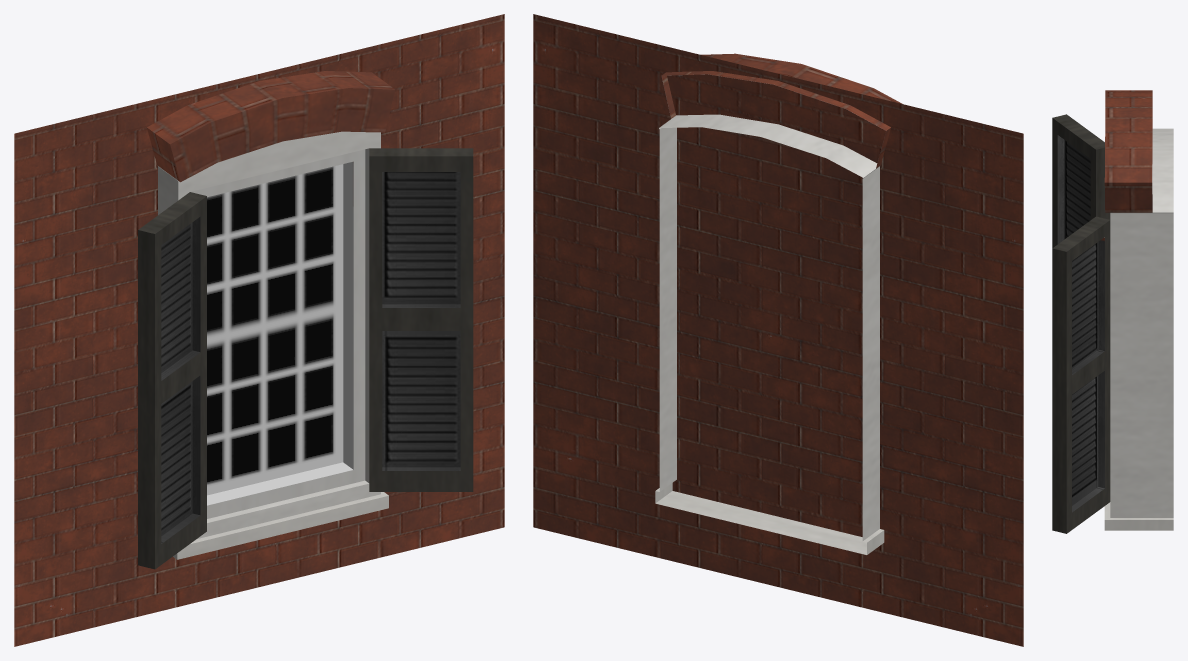
Rendered from Brick_WINDOW_OPEN_THREE.fbx.
The picture shows the model from 3 angles, left to right: view 1: azimuth 30°, elevation 25°; view 2: azimuth 150°, elevation 25°; view 3: azimuth 270°, elevation 25°; orthographic projection. The views are drawn at different scales.
Parts seen in each view (by area): view 1: Brick_THREE_BY_THREE3; view 2: Brick_THREE_BY_THREE3; view 3: Brick_THREE_BY_THREE3.
Part boxes in pixels (x1,y1,x2,y2): Brick_THREE_BY_THREE3: (14,14,504,646); Brick_THREE_BY_THREE3: (533,14,1023,646); Brick_THREE_BY_THREE3: (1052,90,1173,533).
Bounding box in the file's own units: 3 × 3 × 0.7634.
